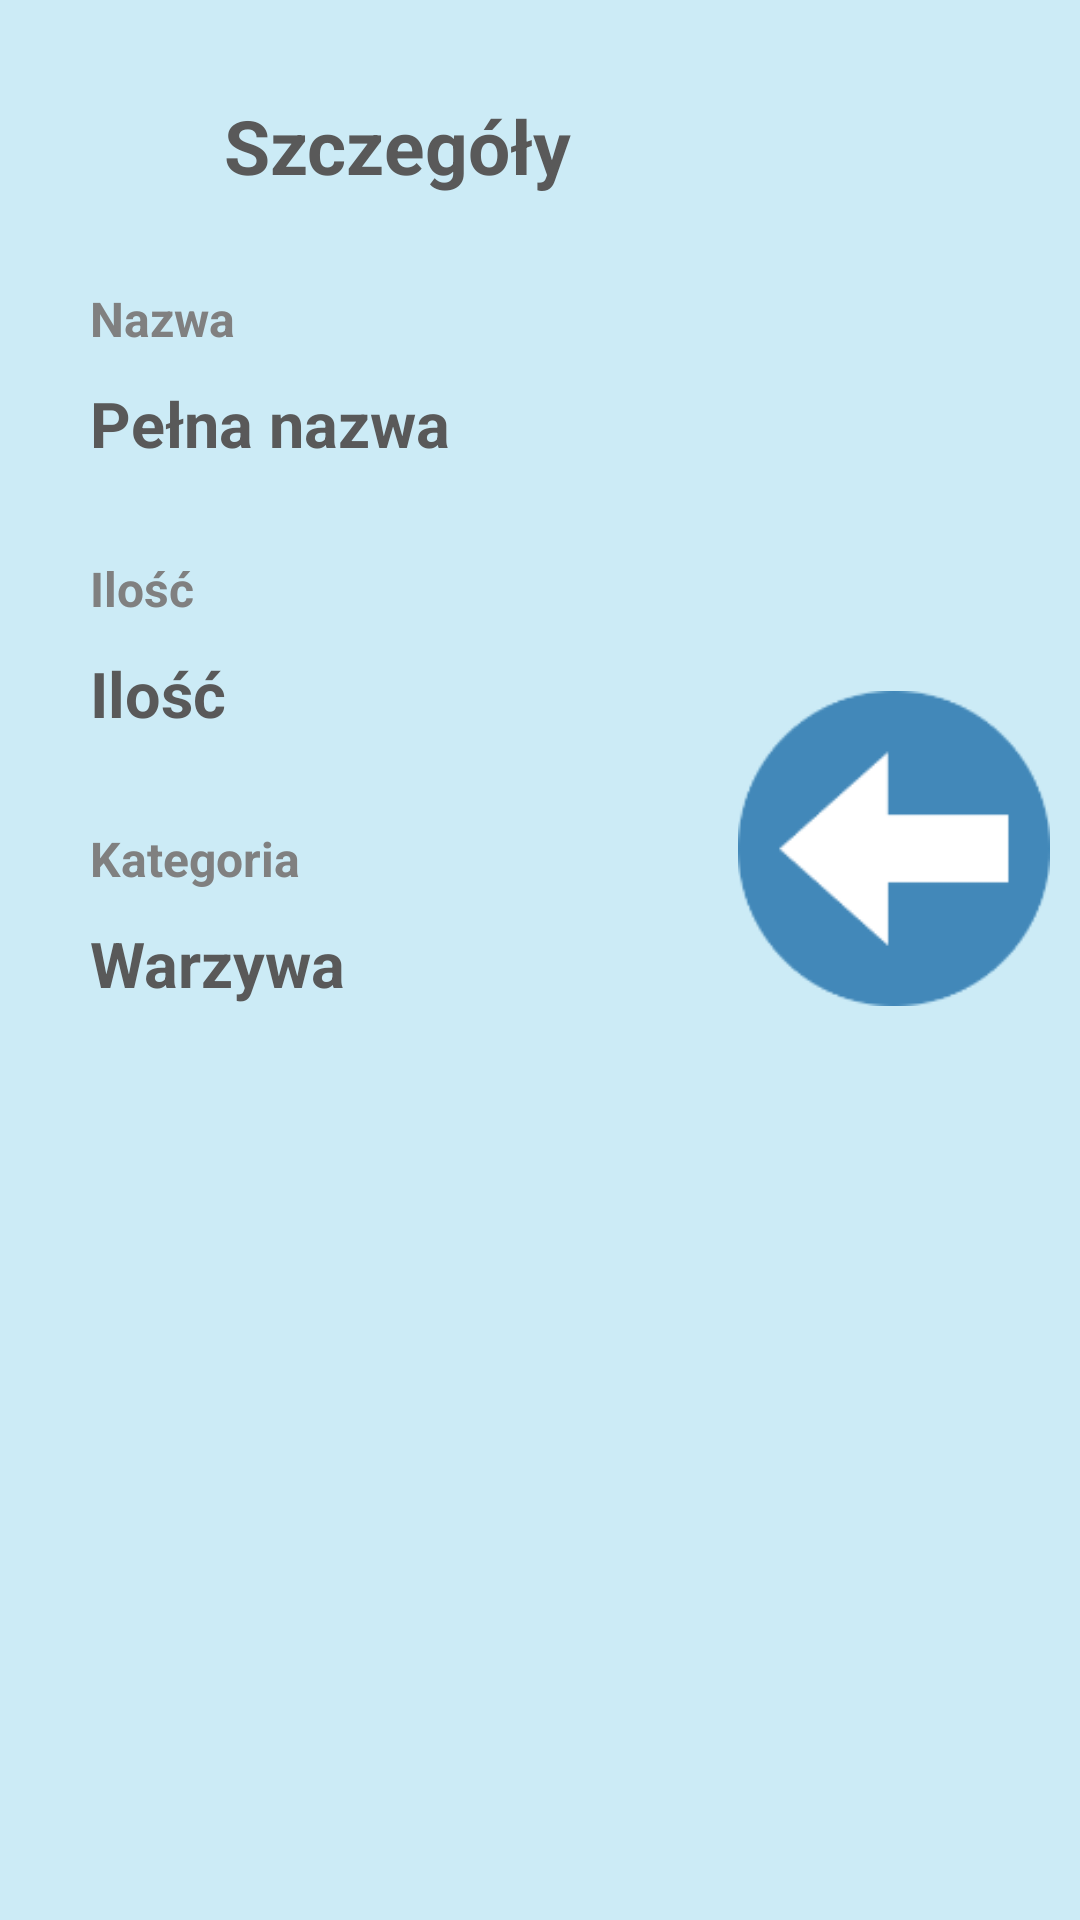

Point at icon controls on the screen. Image size 1080 × 1920, points as (x,y).
back: (894,848)
